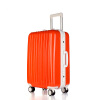luggage: (25, 11, 72, 95)
